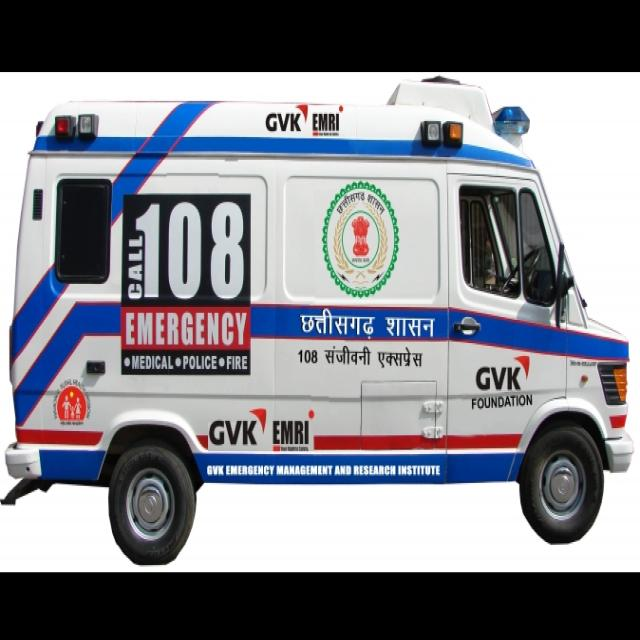ambulance: (7, 78, 640, 568)
